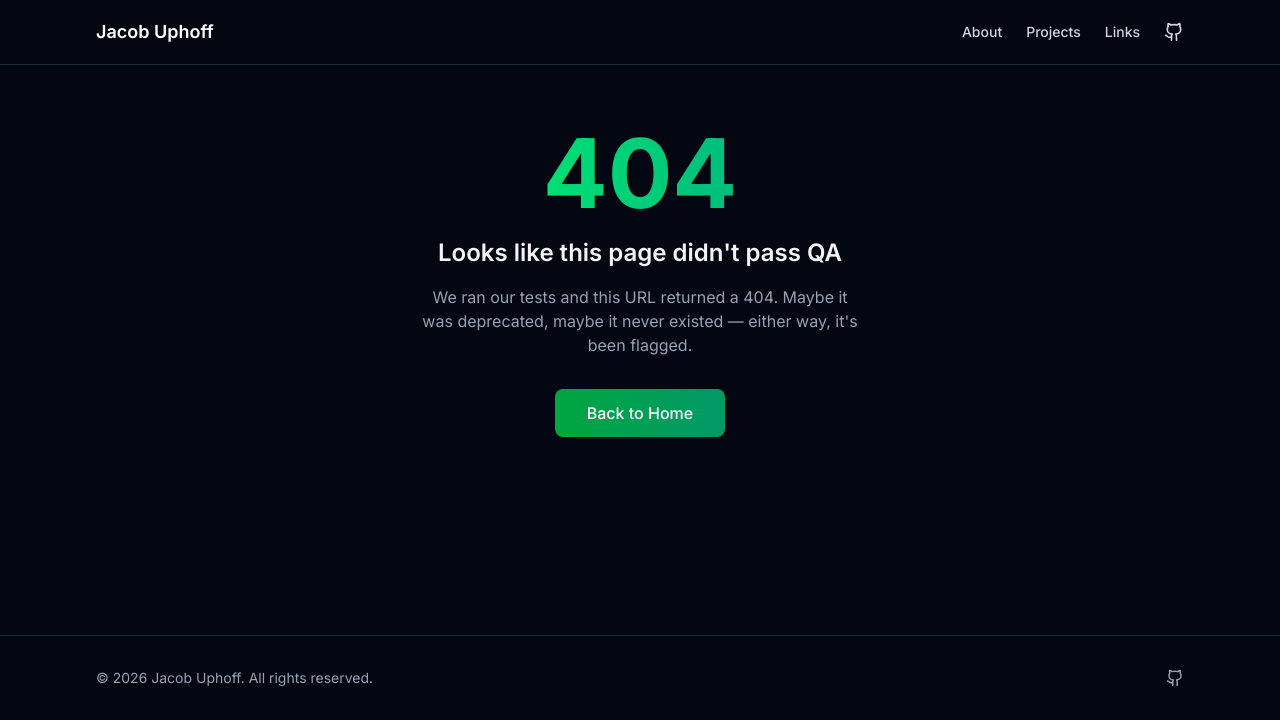
404 page › navigates back to home when clicking Back to Home link
Click the link with test id "not-found-home-link": click(641, 413) [555,389,726,437]
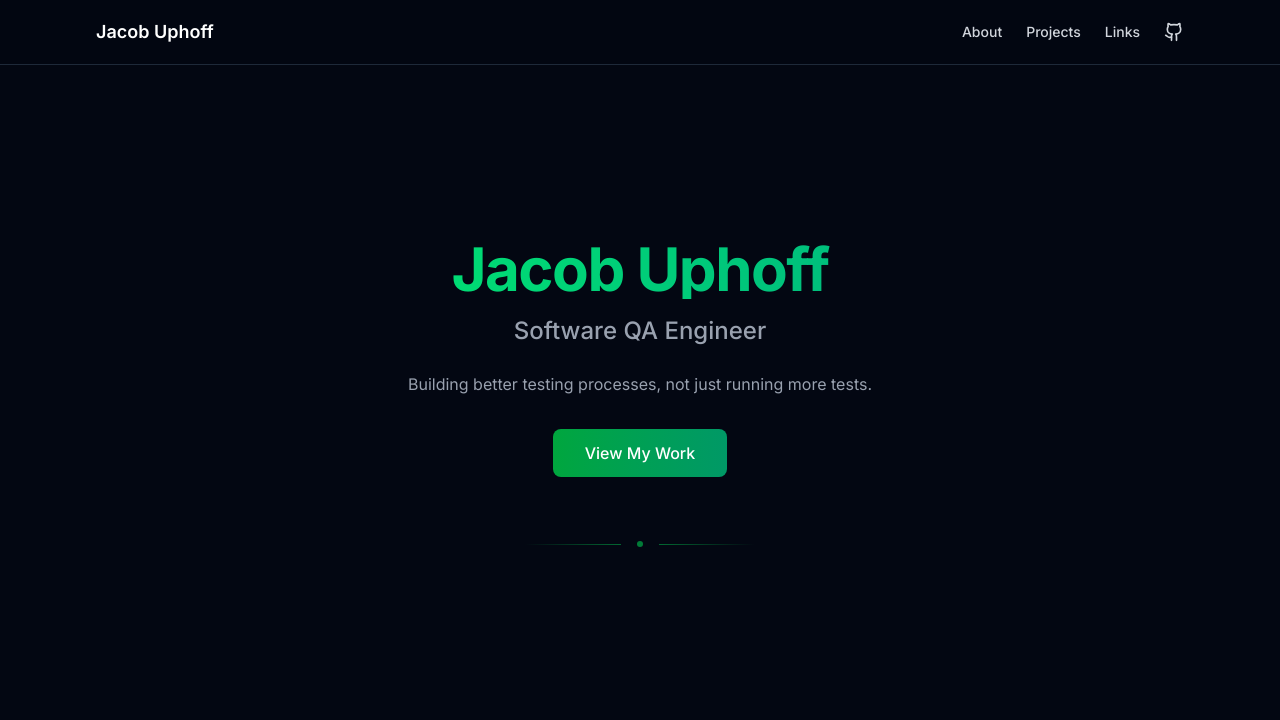
Now the element with test id "home-hero" is shown, box [408,239,872,547]
